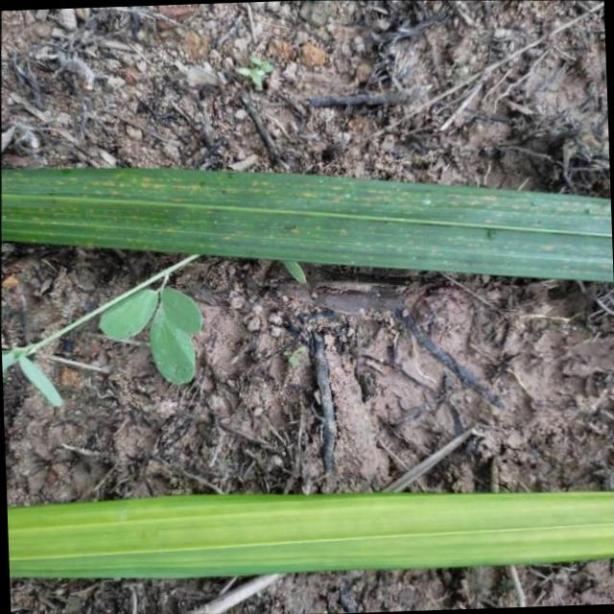nitrogen: (1, 151, 614, 286), (0, 488, 614, 584)
